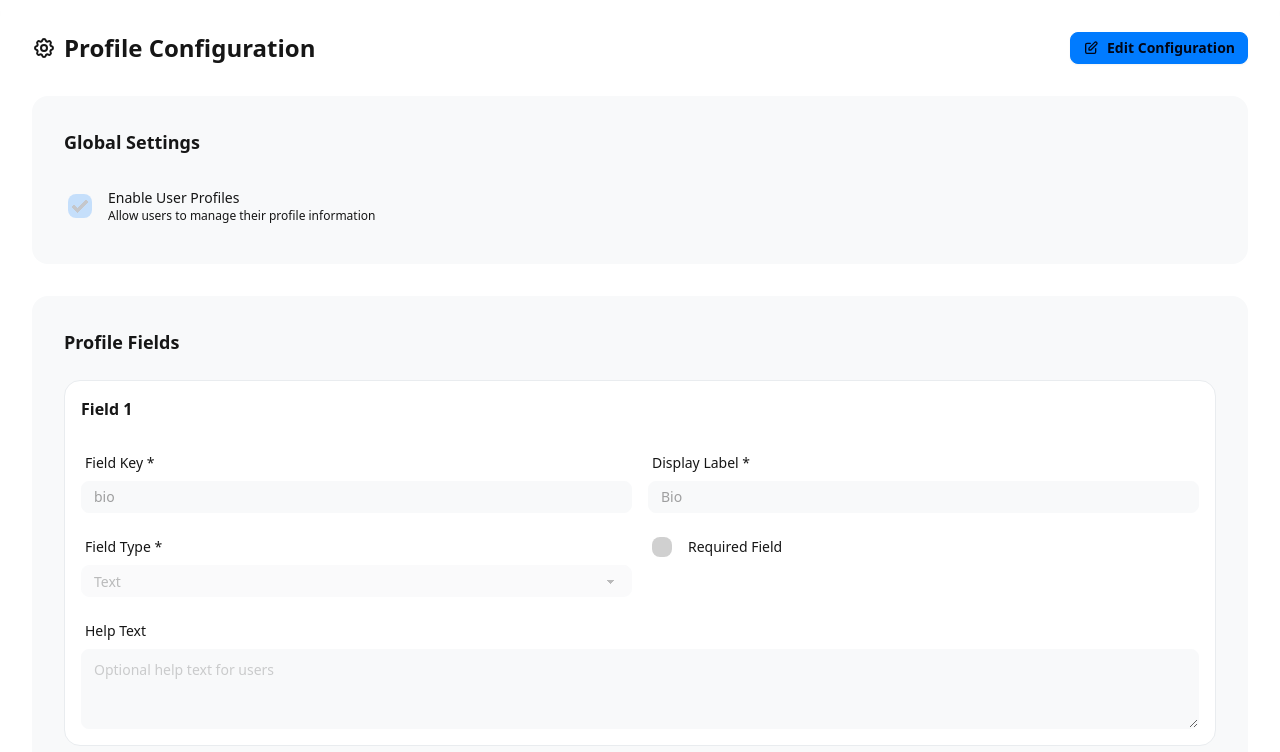
Test: validation › refuses two fields with the same key
The width and height of the screenshot is (1280, 752).
Click the button "Edit Configuration" at {"x": 1159, "y": 48}, box [1070,32,1248,64]
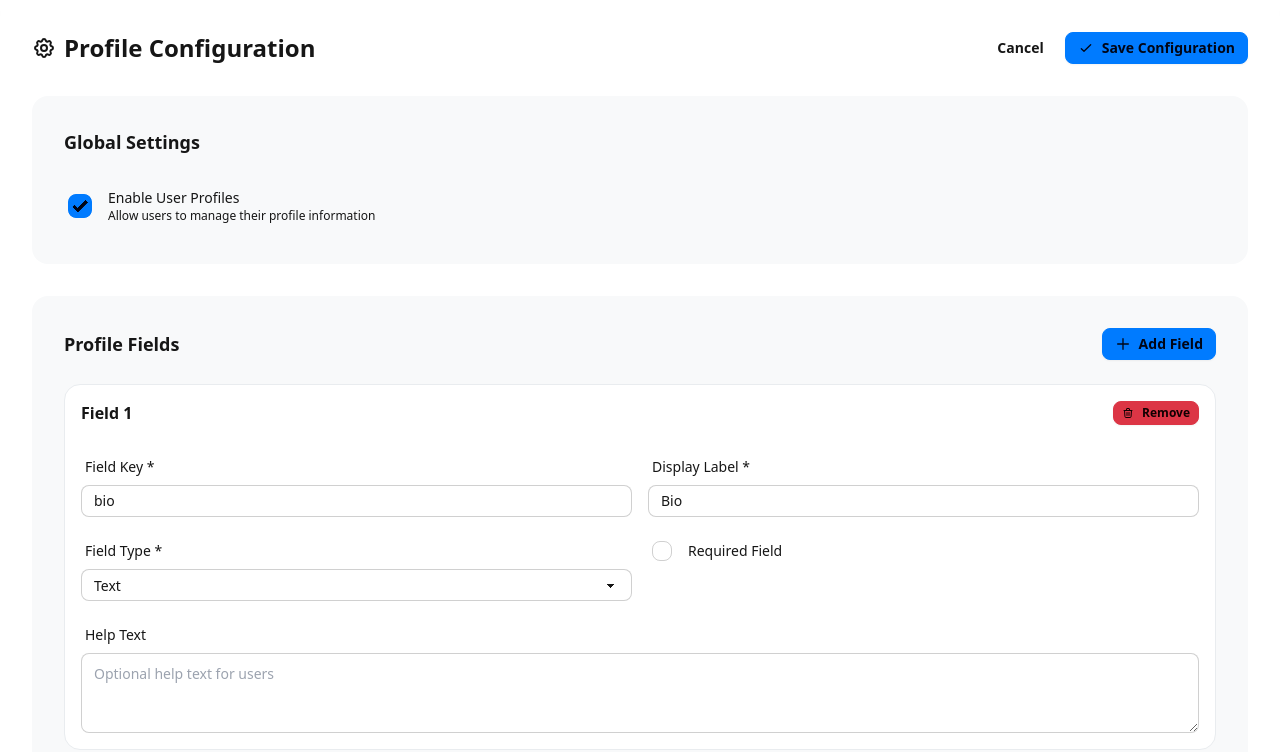
Click the button "Save Configuration" at {"x": 1156, "y": 48}, box [1065,32,1248,64]
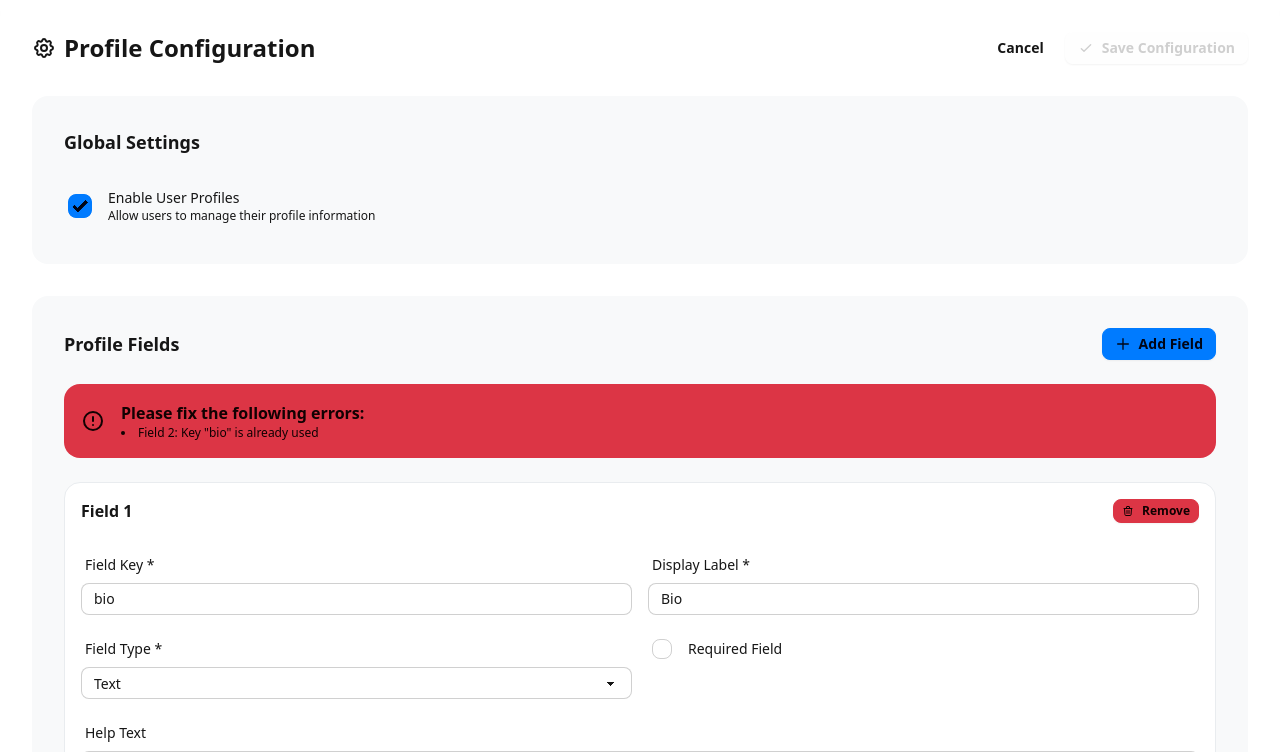
Expected: the element with class "alert-error" shows "Key \"bio\" is already used", [138,424,319,441]
